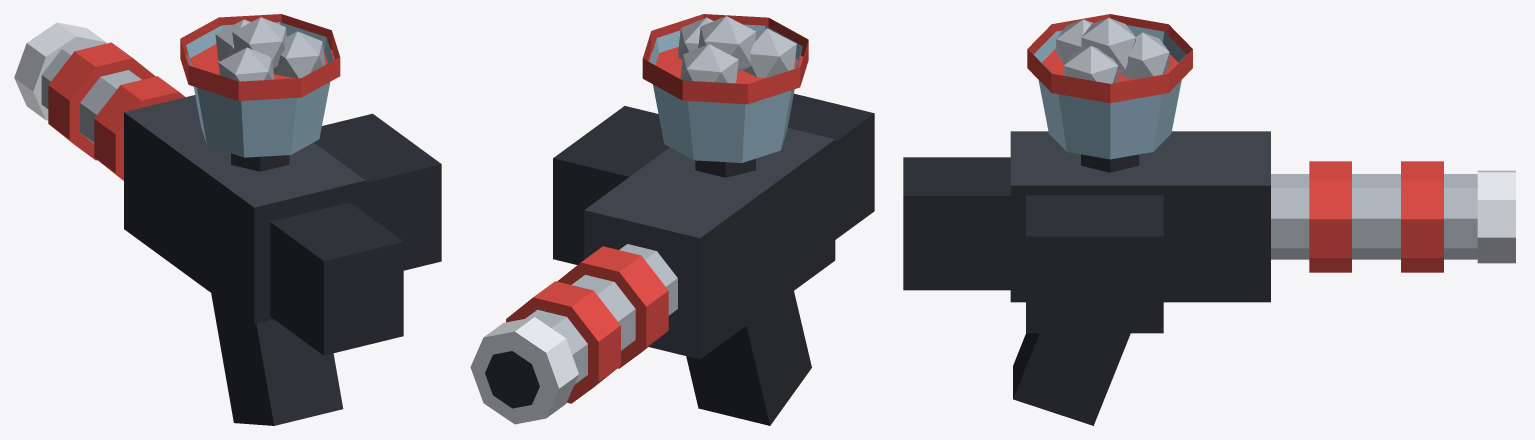
File: G_Miknato_1.fbx
3 views of the same model, side by side, from view 1: azimuth 30°, elevation 25°; view 2: azimuth 150°, elevation 25°; view 3: azimuth 270°, elevation 25° (orthographic). The views are drawn at different scales.
Visible parts, largest first — view 1: G_Miknato_1; view 2: G_Miknato_1; view 3: G_Miknato_1.
Part boxes in pixels (x1,y1,x2,y2): G_Miknato_1: (14,14,441,425); G_Miknato_1: (470,14,874,425); G_Miknato_1: (903,14,1515,425).
Size of the model in its own units: 0.2305 by 0.409 by 0.5844.
